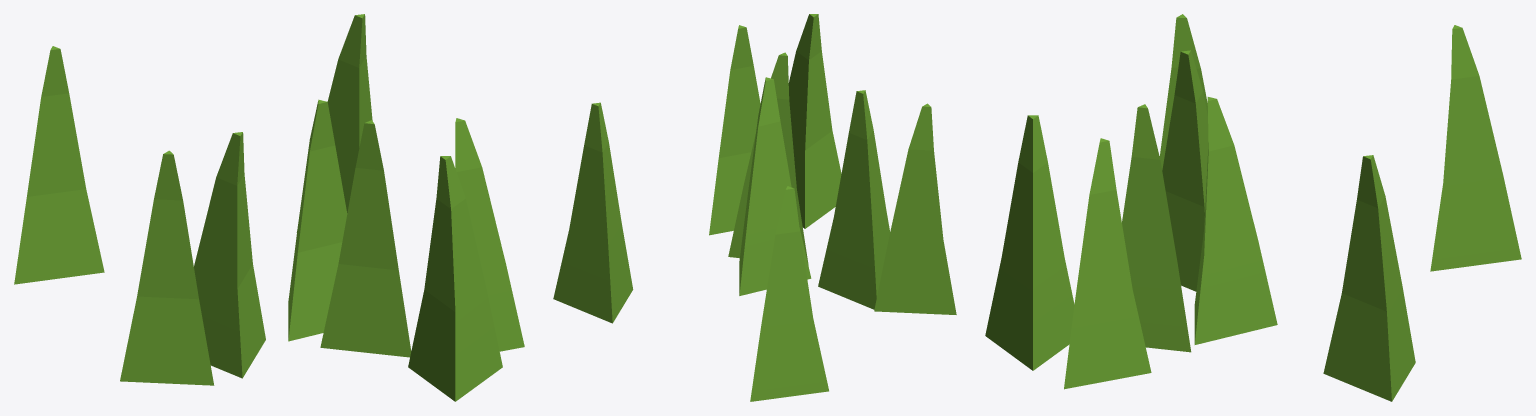
The model's file is grass.fbx.
3 renders of one model, left to right at view 1: azimuth 30°, elevation 25°; view 2: azimuth 150°, elevation 25°; view 3: azimuth 270°, elevation 25°, orthographic. The views are drawn at different scales.
Visible parts, largest first — view 1: Cylinder.006; view 2: Cylinder.006; view 3: Cylinder.006.
Boxes of the visible parts, left/top/right/bottom form: Cylinder.006: left=14, top=14, right=524, bottom=401; Cylinder.006: left=553, top=14, right=956, bottom=401; Cylinder.006: left=985, top=14, right=1521, bottom=401.
Bounding box in the file's own units: 174 × 102 × 220.
